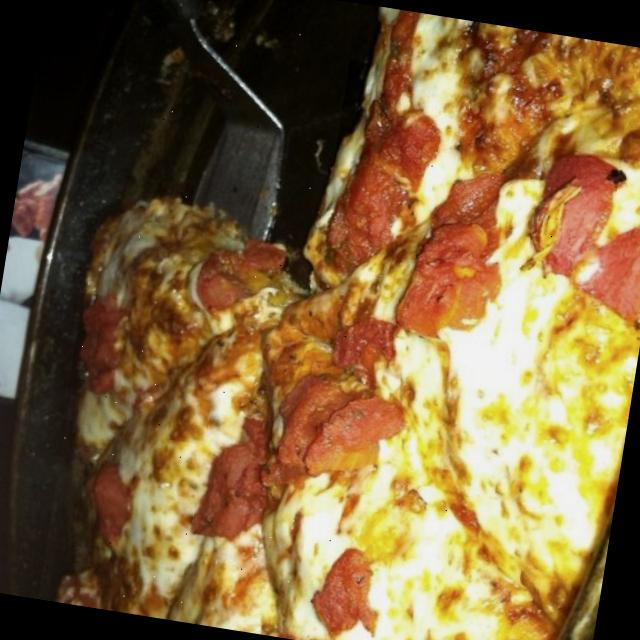cheese: (409, 245, 640, 578), (315, 472, 551, 640), (387, 11, 502, 200), (105, 414, 207, 578), (255, 474, 345, 640), (366, 320, 476, 444), (168, 529, 276, 635), (166, 350, 260, 450), (94, 214, 160, 302), (67, 377, 132, 452), (489, 174, 546, 255), (609, 169, 640, 239)
pizza: (59, 7, 640, 640)
tomato: (317, 59, 458, 284), (407, 164, 518, 351), (260, 365, 412, 499), (188, 411, 284, 563), (526, 144, 622, 280), (194, 226, 292, 326), (305, 535, 394, 640), (566, 207, 640, 324), (324, 302, 410, 391), (68, 292, 134, 402), (73, 457, 144, 554), (49, 560, 113, 610)
